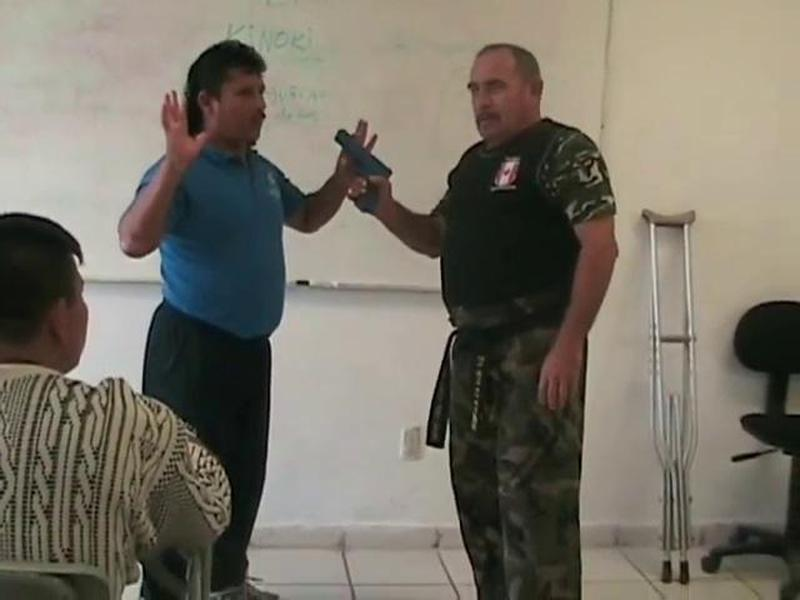Pistola: (327, 117, 413, 225)
